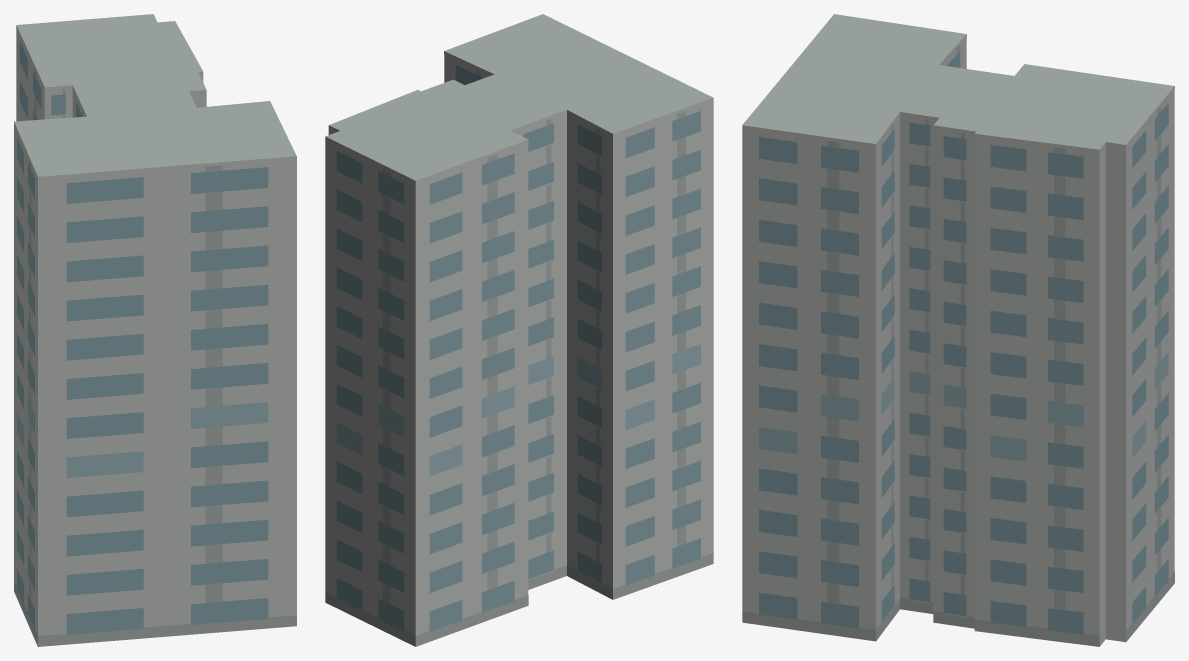
Rendered from residential-9d0f2b6b-0288-475a-b2bc-06f63d3aba1b.glb.
3 views of the same model, side by side, from view 1: azimuth 30°, elevation 25°; view 2: azimuth 150°, elevation 25°; view 3: azimuth 270°, elevation 25° (orthographic). The views are drawn at different scales.
Parts seen in each view (by area): view 1: residential-9d0f2b6b-0288-475a-b2bc-06f63d3aba1b.tmp; view 2: residential-9d0f2b6b-0288-475a-b2bc-06f63d3aba1b.tmp; view 3: residential-9d0f2b6b-0288-475a-b2bc-06f63d3aba1b.tmp.
Part boxes in pixels (bbox=[...]): residential-9d0f2b6b-0288-475a-b2bc-06f63d3aba1b.tmp: bbox=[14, 14, 296, 646]; residential-9d0f2b6b-0288-475a-b2bc-06f63d3aba1b.tmp: bbox=[325, 14, 713, 646]; residential-9d0f2b6b-0288-475a-b2bc-06f63d3aba1b.tmp: bbox=[742, 14, 1174, 646].
Size of the model in its own units: 20.83 by 35.6 by 28.07.
